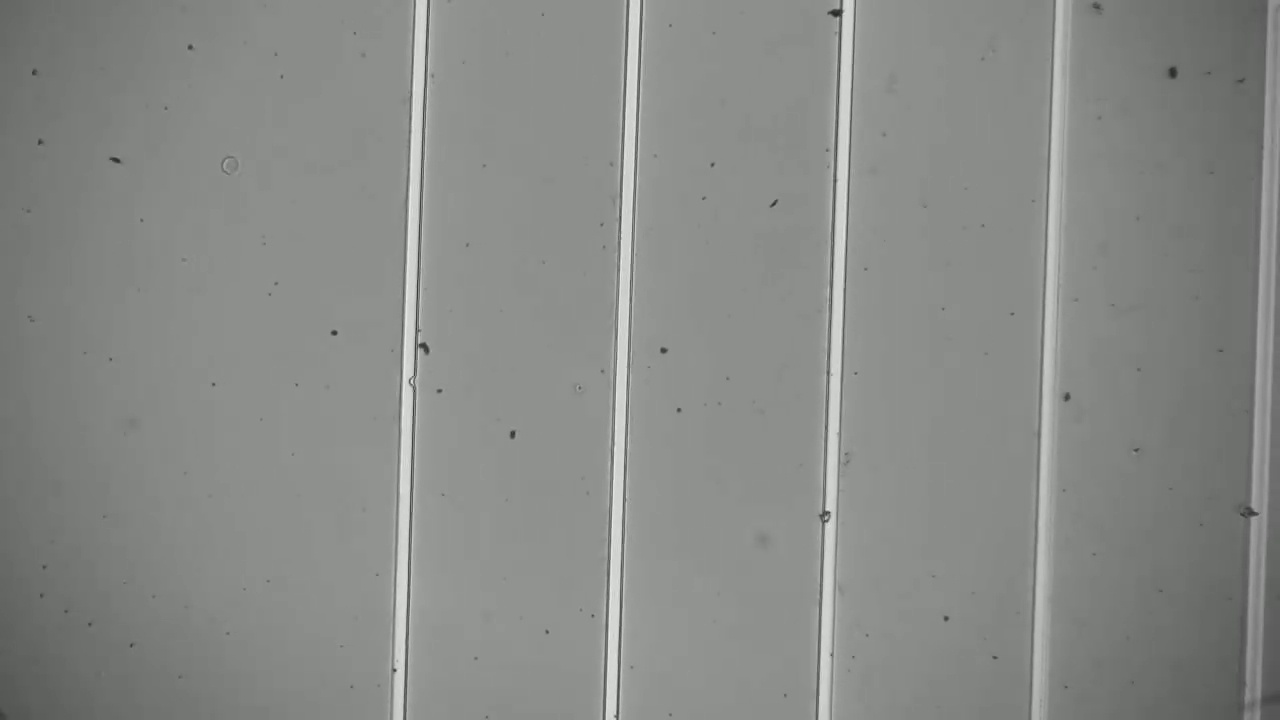edge_bite: (392, 371, 421, 394)
stains_enbedded: (1233, 497, 1275, 528), (811, 503, 844, 533)
